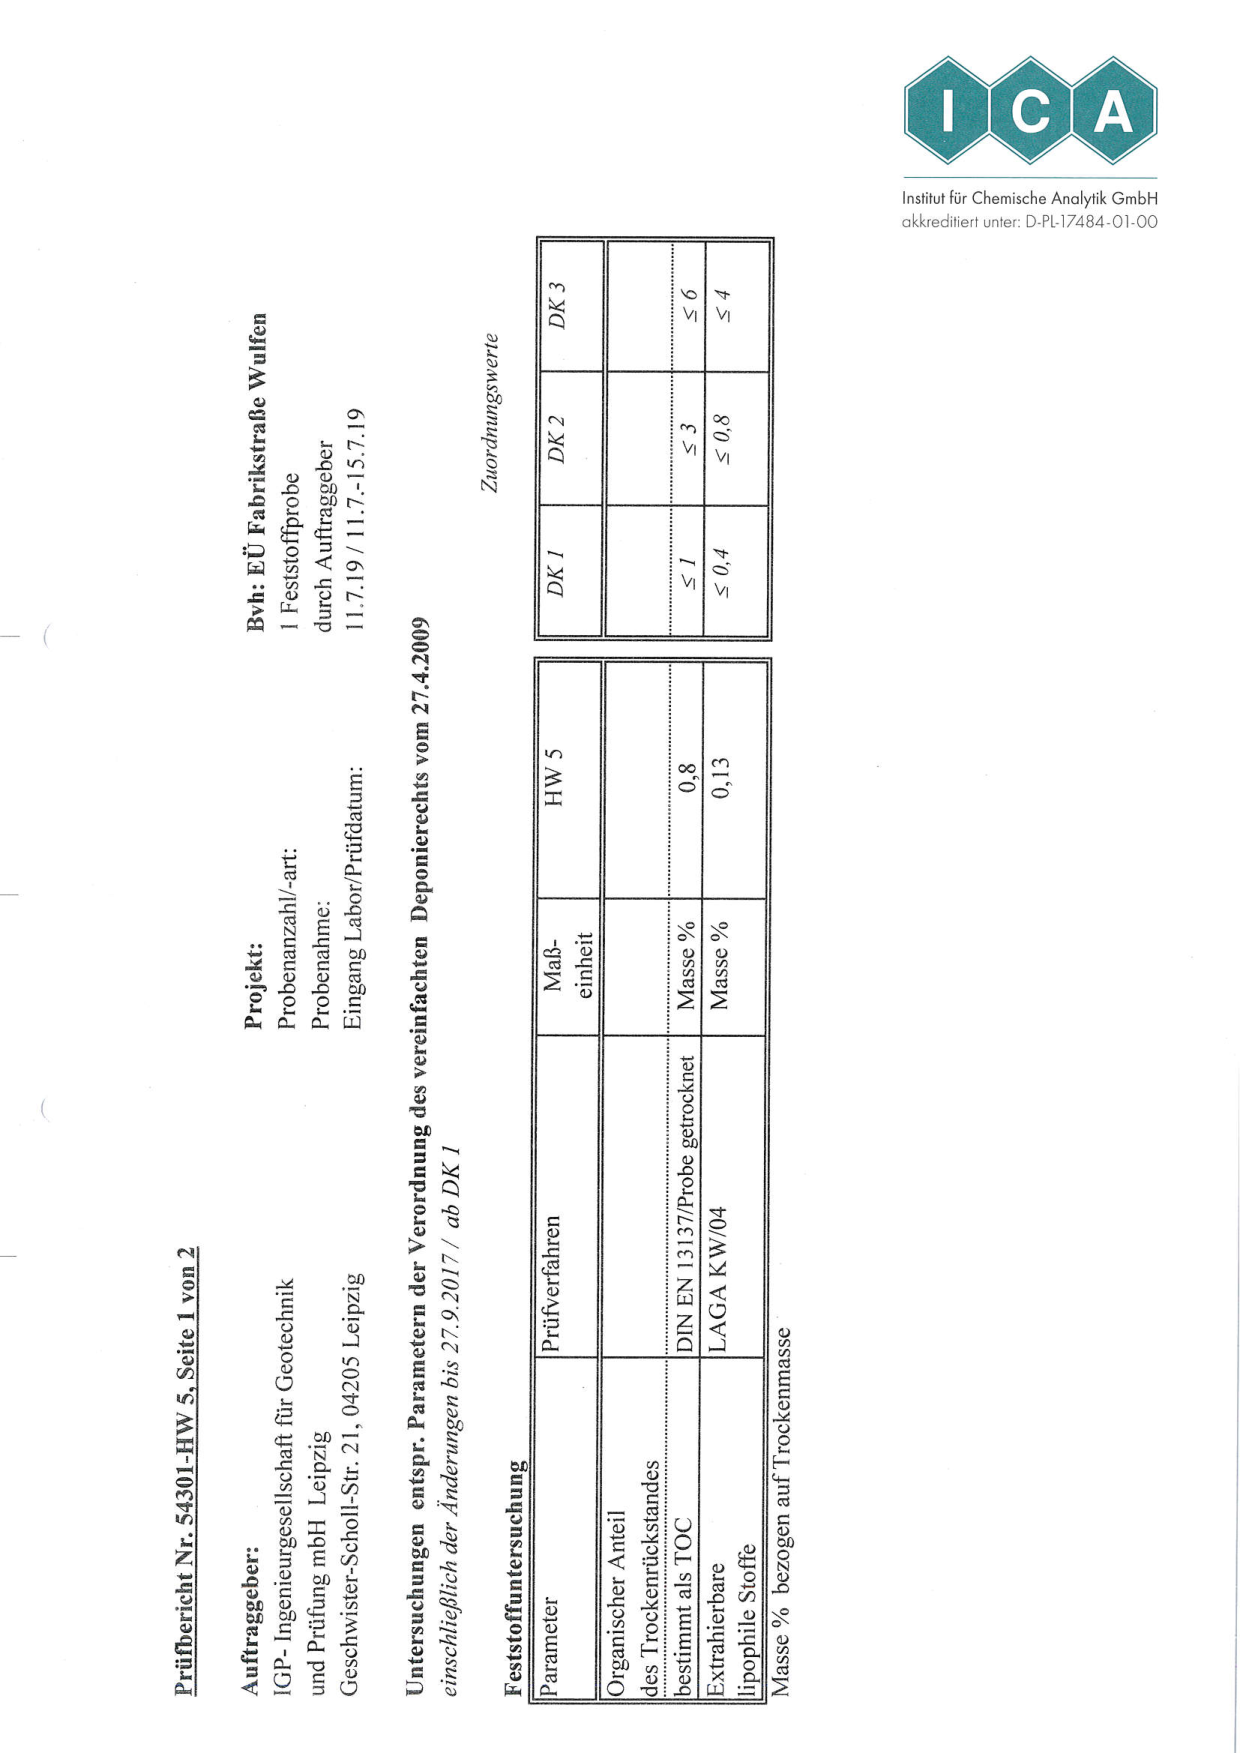table: (503, 224, 823, 1714)
